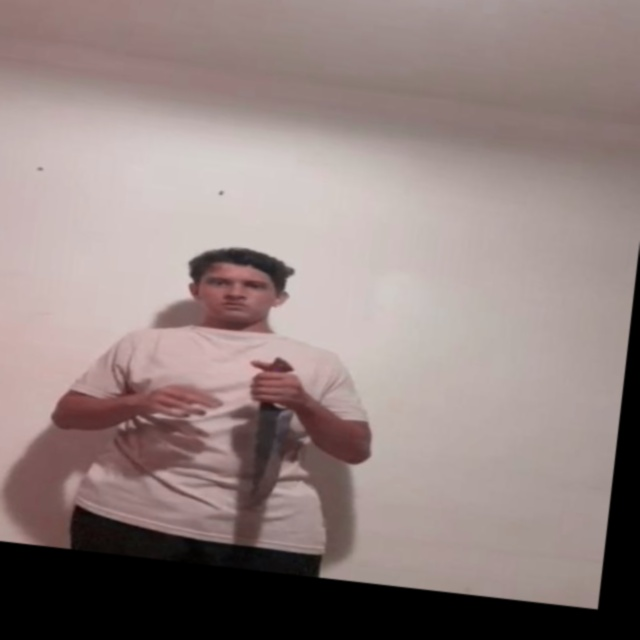Sharp-Object: (247, 405, 294, 509)
